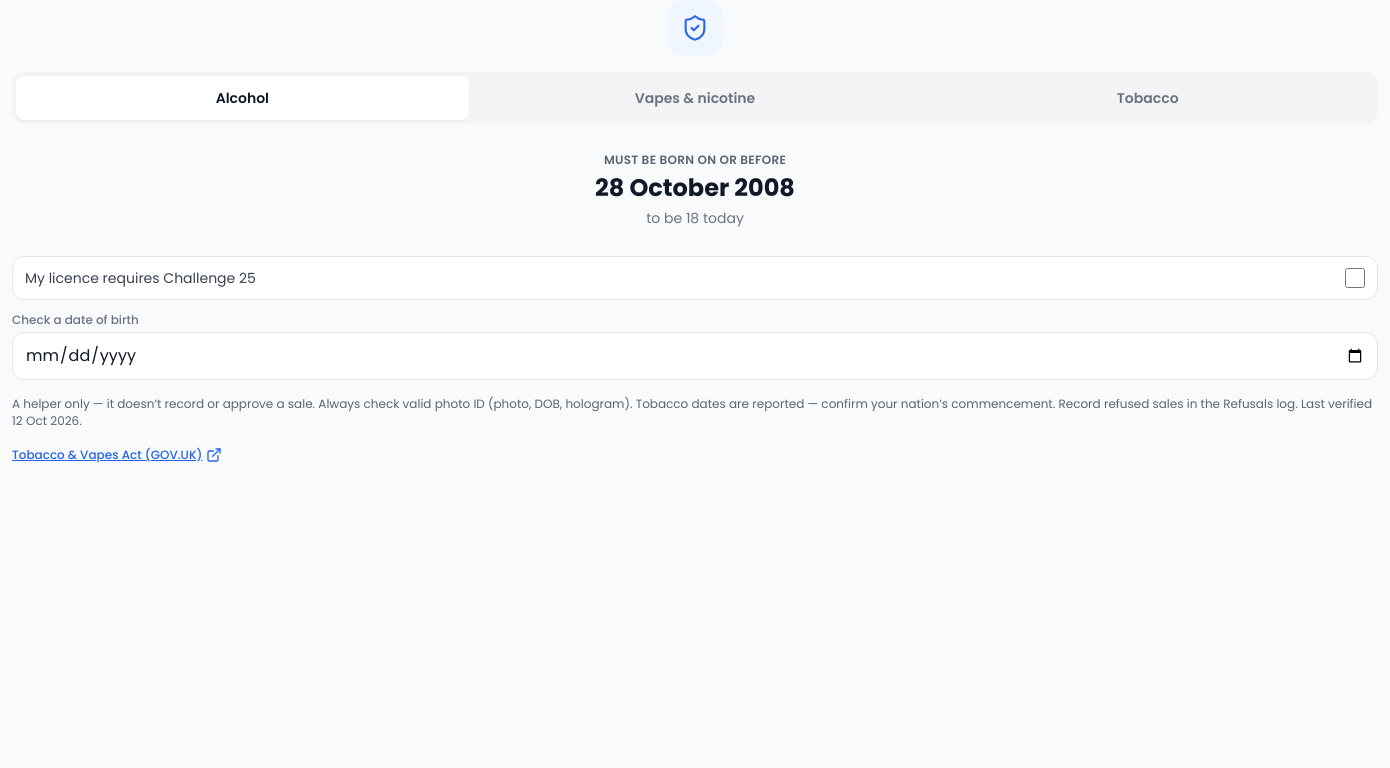
Test: AgeCheckHelper — audit: never a negative age; bound the date in the handler › rejects a future DOB as "Invalid date" and shows no age
Type "2999-01-01" into the date field labelled "Check a date of birth" at x=695, y=356, box [12, 332, 1378, 380]
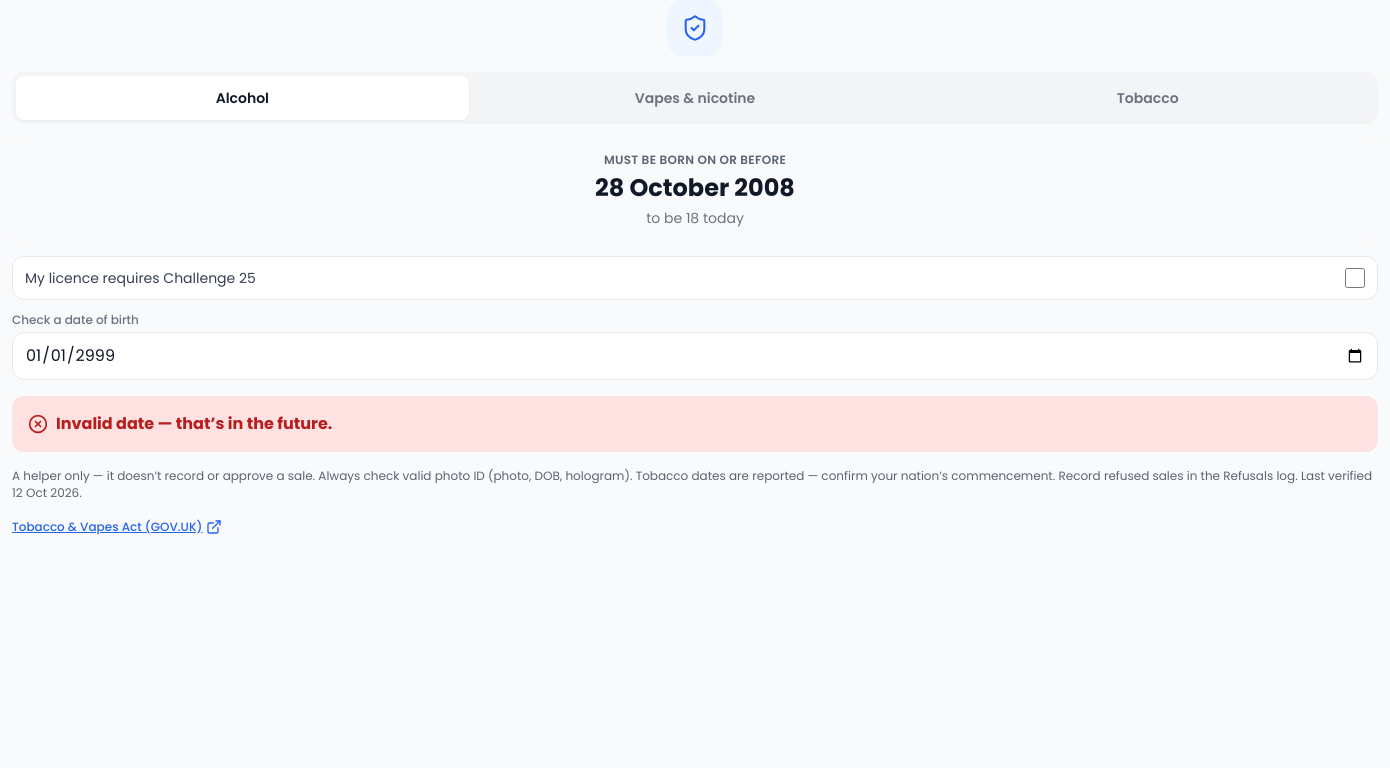
Now the text "Invalid date — that’s in the future." is shown, box [28, 412, 332, 435]
